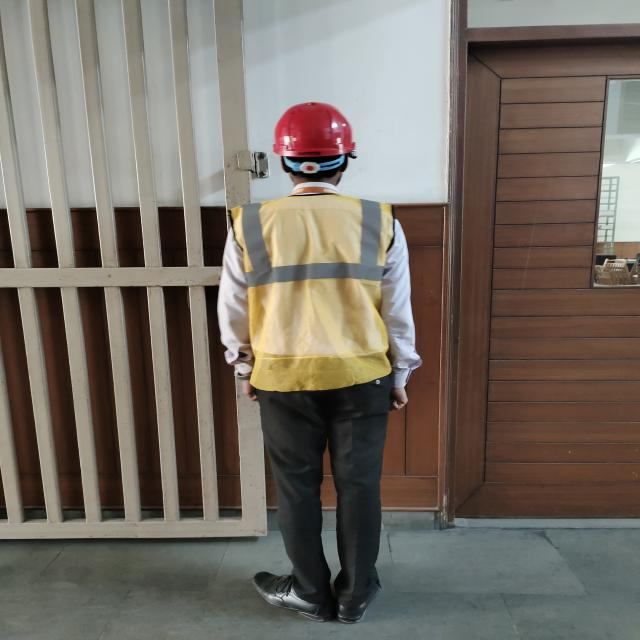safe: (222, 102, 416, 621)
